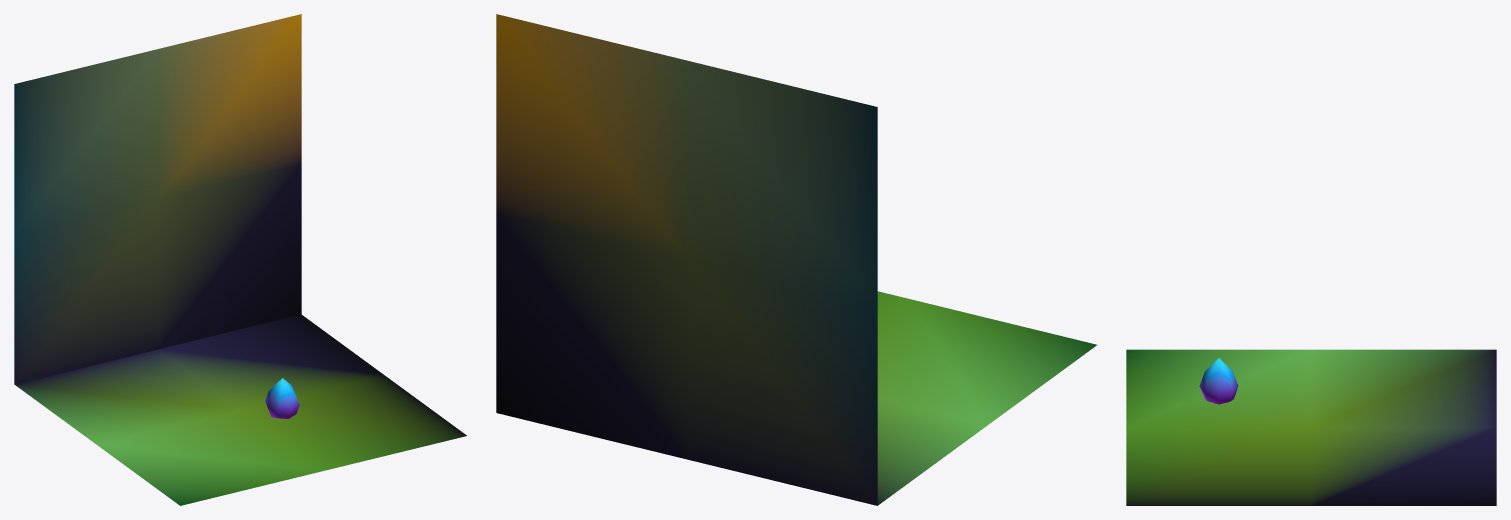
Rendered from drop.fbx.
3 views of the same model, side by side, from view 1: azimuth 30°, elevation 25°; view 2: azimuth 150°, elevation 25°; view 3: azimuth 270°, elevation 25° (orthographic). The views are drawn at different scales.
Parts seen in each view (by area): view 1: WallPlane, GroundPlane, Drop; view 2: WallPlane, GroundPlane; view 3: GroundPlane, Drop.
Boxes of the visible parts, <box> form: WallPlane: <box>14,14,301,384</box>; GroundPlane: <box>15,314,466,505</box>; Drop: <box>265,378,299,418</box>; WallPlane: <box>496,14,877,505</box>; GroundPlane: <box>877,291,1096,505</box>; GroundPlane: <box>1126,349,1496,505</box>; Drop: <box>1199,358,1238,404</box>.
Size of the model in its own units: 1600 by 1600 by 1600.
